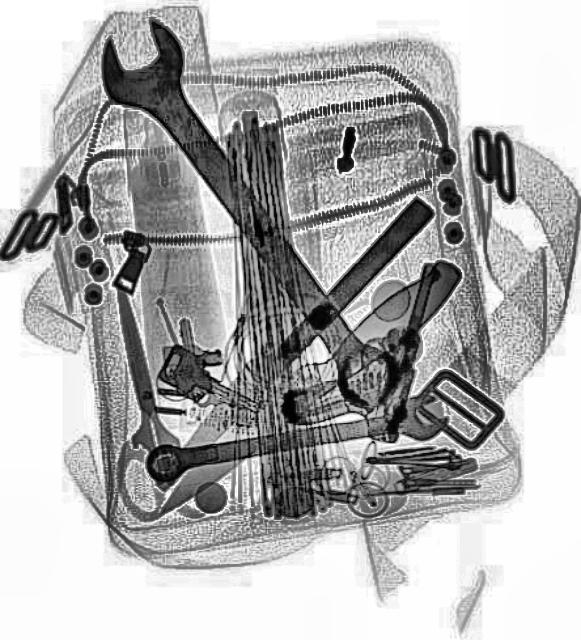Gun: (276, 235, 442, 448)
Knife: (142, 248, 475, 530), (140, 185, 438, 500), (98, 274, 180, 463)
Wrench: (77, 2, 420, 426), (139, 387, 453, 483)
